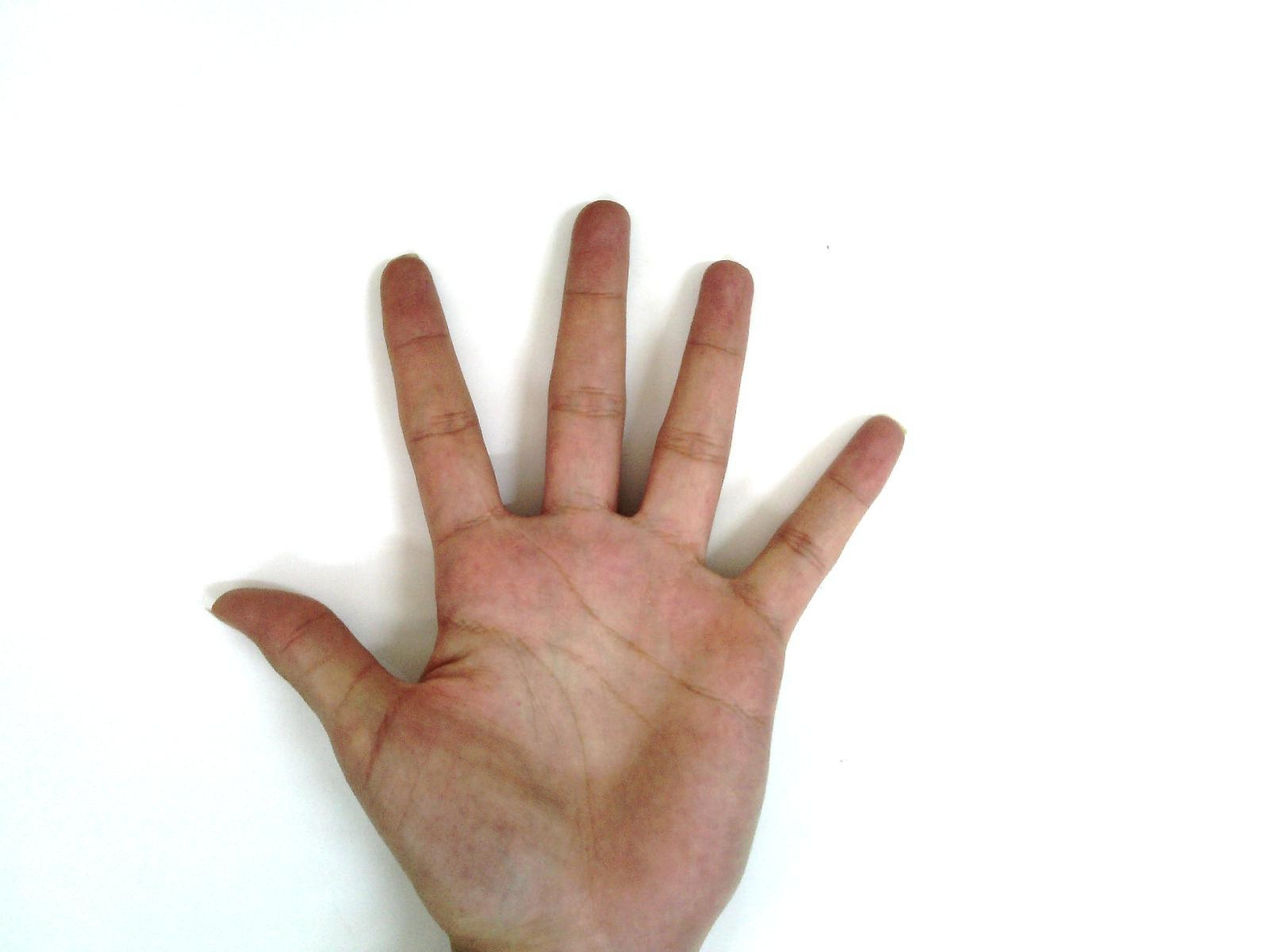open_palm: (207, 198, 909, 951)
